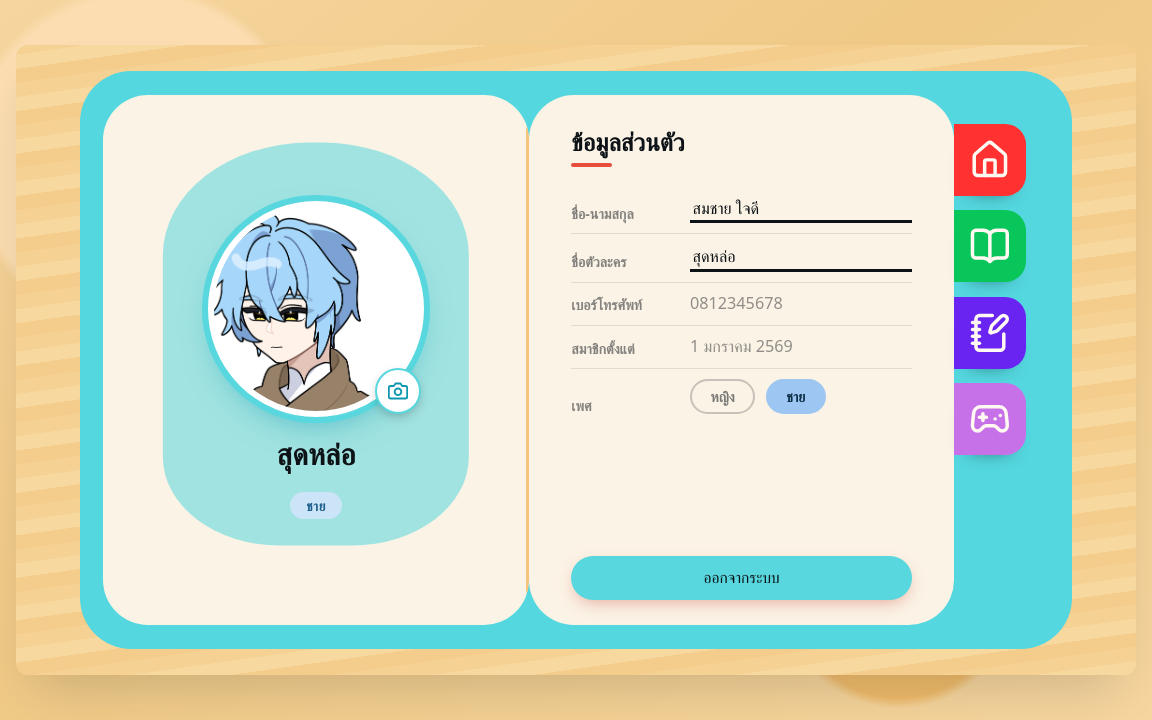
Scenario: ProfilePage – inline edit › shows error feedback when the server returns 500
Replace the text in the field showing "สมชาย ใจดี" with "ชื่อที่ผิดพลาด" at (801, 210), box [690,196,912,223]
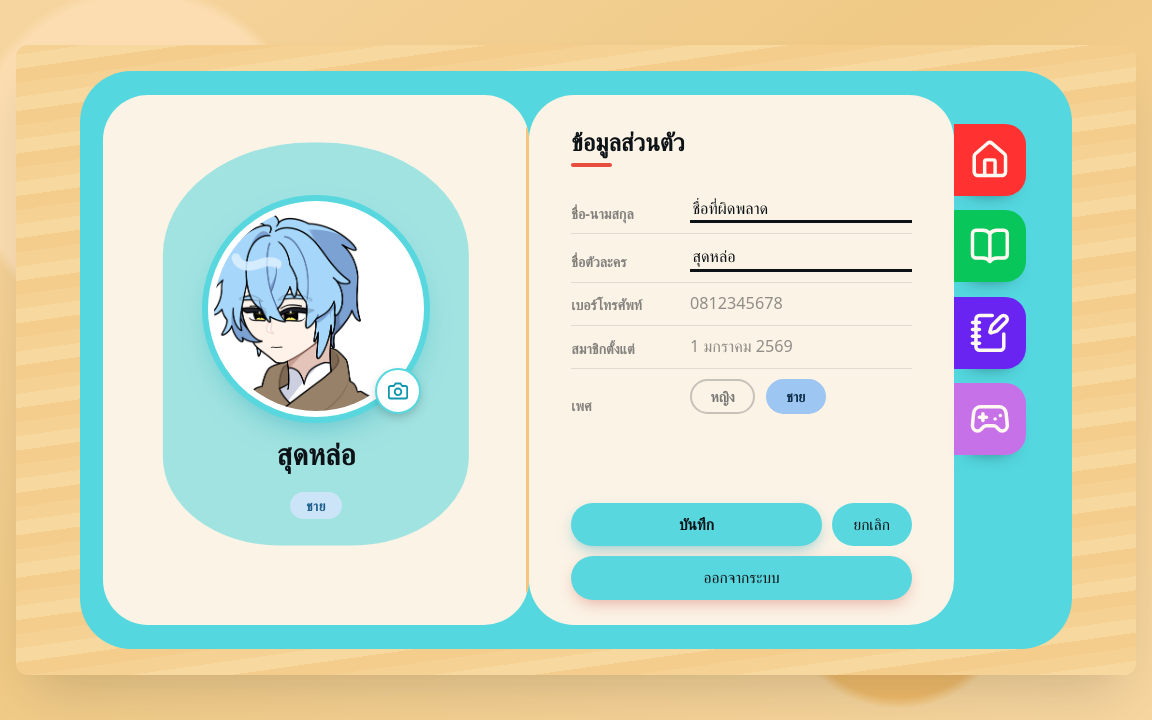
Click the button "บันทึก" at (696, 524), box [571,503,822,546]
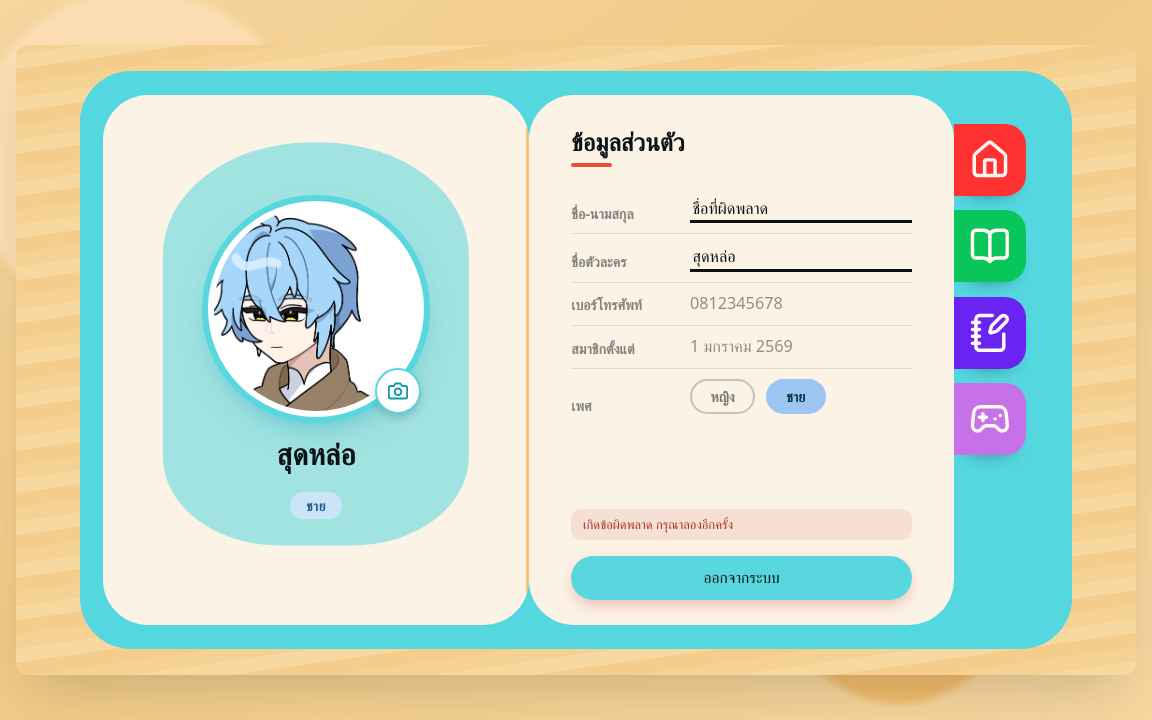
Check: the text "เกิดข้อผิดพลาด กรุณาลองอีกครั้ง" is shown, box [571,509,912,540]
